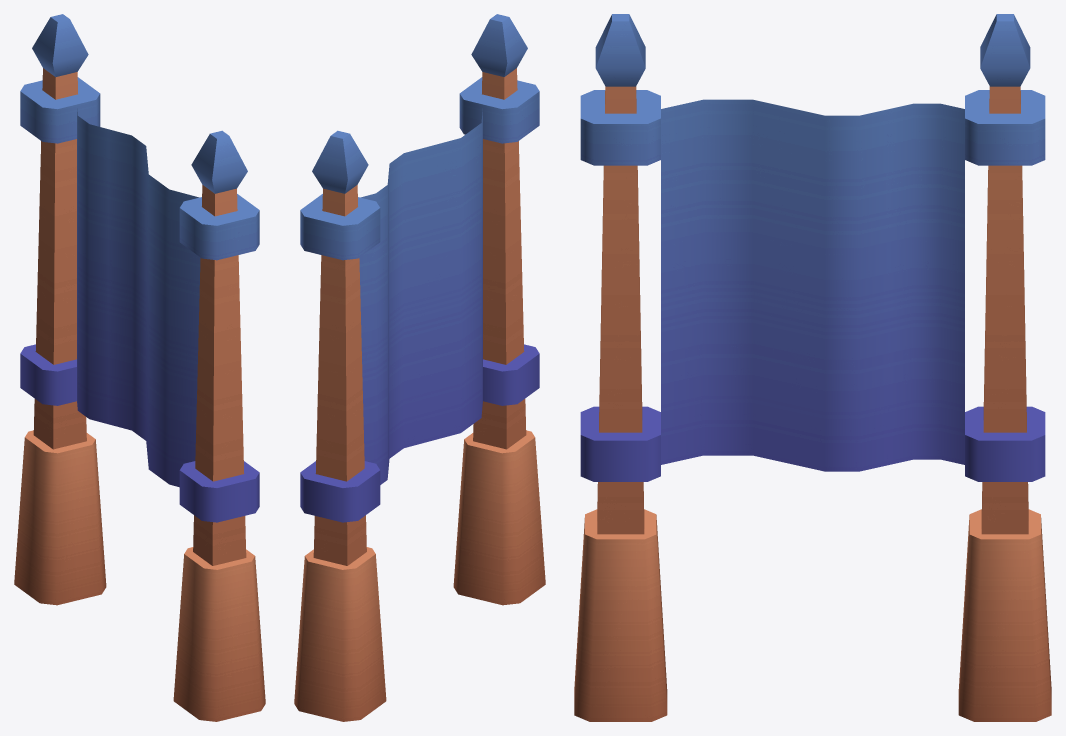
Rendered from flag-wide.glb.
3 views of the same model, side by side, from view 1: azimuth 30°, elevation 25°; view 2: azimuth 150°, elevation 25°; view 3: azimuth 270°, elevation 25° (orthographic). The views are drawn at different scales.
Parts seen in each view (by area): view 1: flag-wide; view 2: flag-wide; view 3: flag-wide.
Boxes of the visible parts, box(x1,y1,x2,y2) form: flag-wide: box(14, 14, 265, 721); flag-wide: box(294, 14, 545, 721); flag-wide: box(574, 14, 1051, 721).
Size of the model in its own units: 0.1064 by 0.8656 by 0.5469.
Materials: 1 (1 with a texture image).
